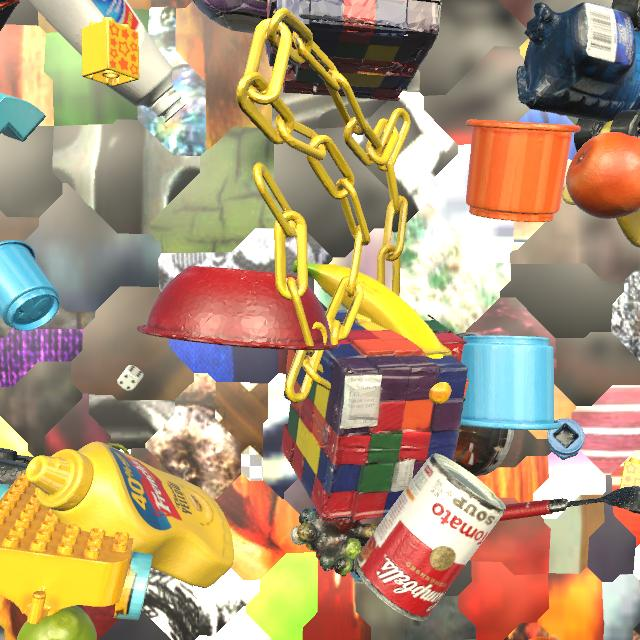ycb_005_tomato_soup_can: (354, 453, 506, 621)
ycb_006_mustard_bottle: (26, 442, 234, 588)
ycb_011_banana: (292, 260, 451, 404)
ycb_016_pear: (17, 605, 97, 640)
ycb_017_orange: (566, 132, 640, 219)
